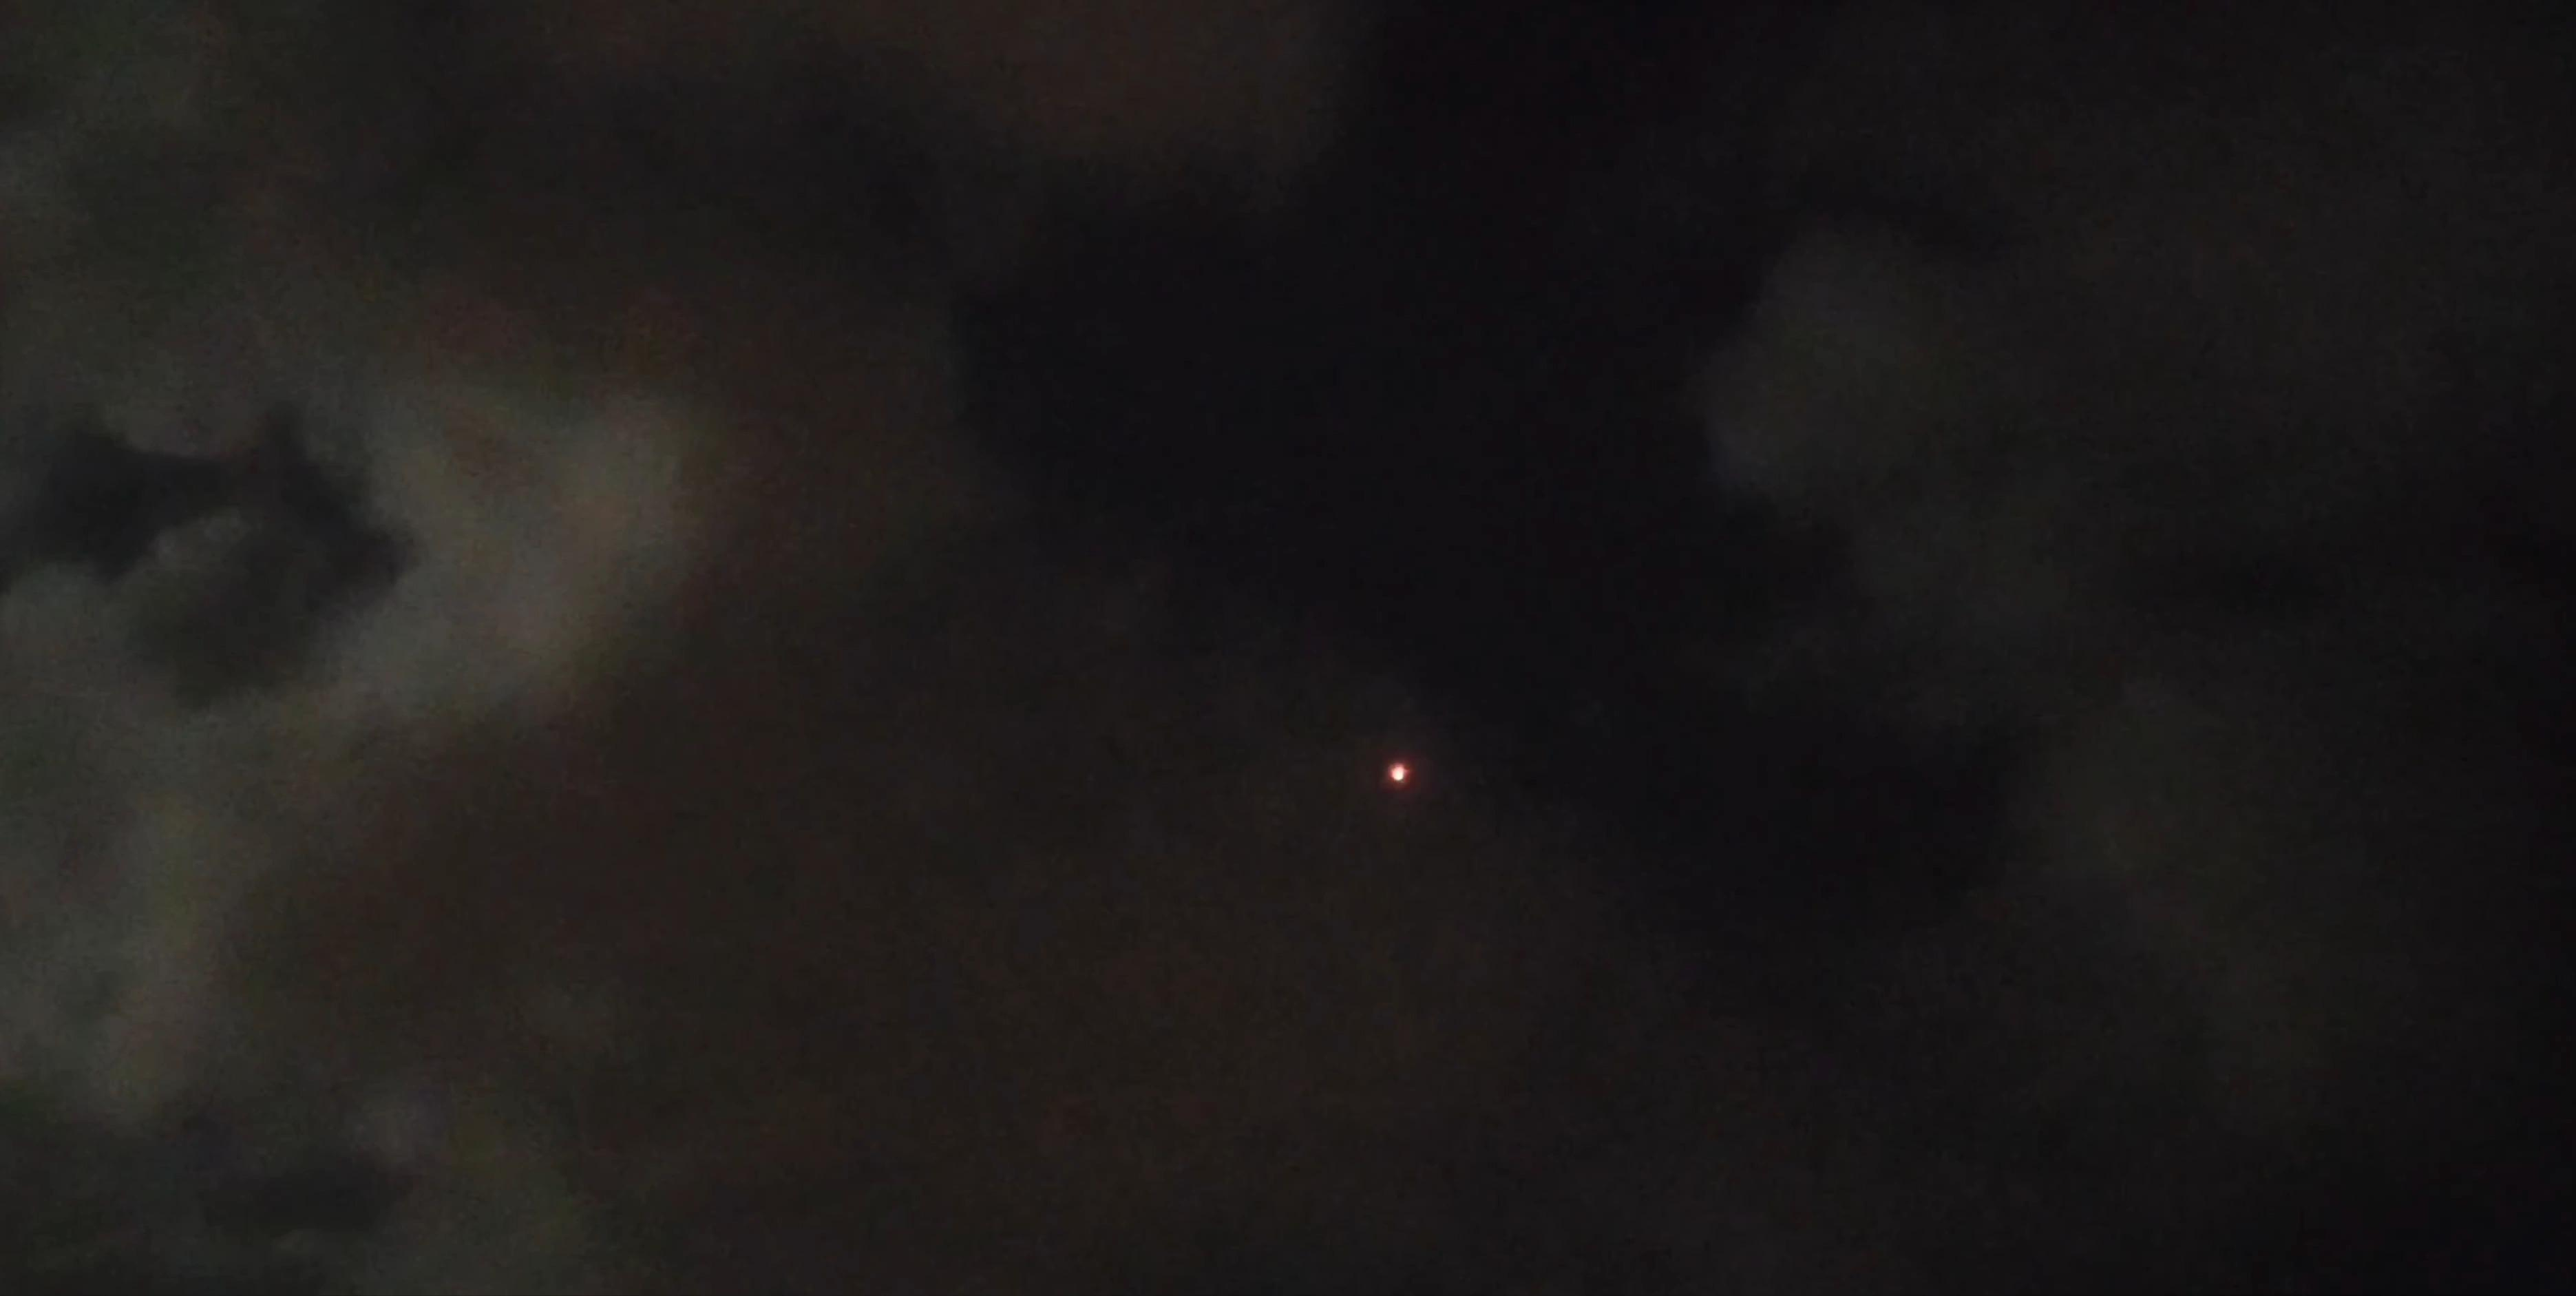Plane: (1370, 747, 1434, 797)
